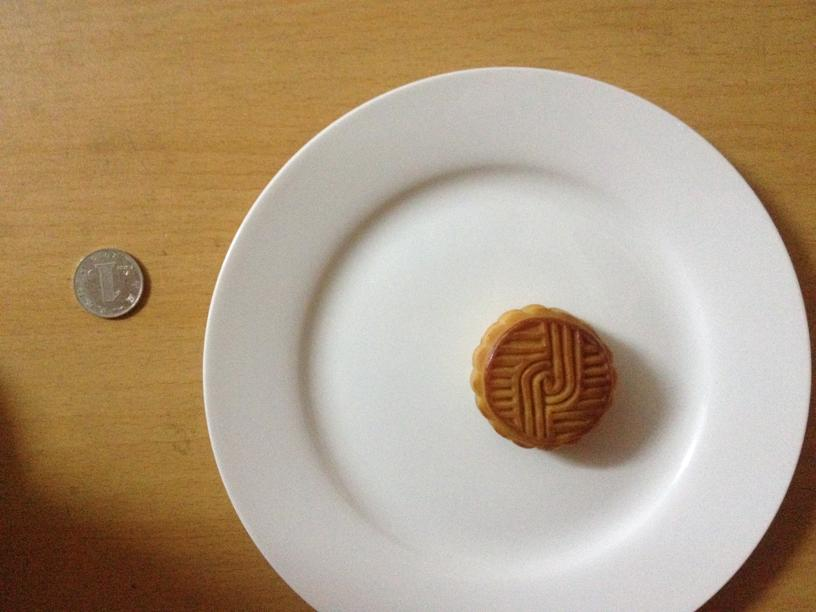coin: (72, 247, 144, 317)
mooncake: (471, 305, 614, 448)
